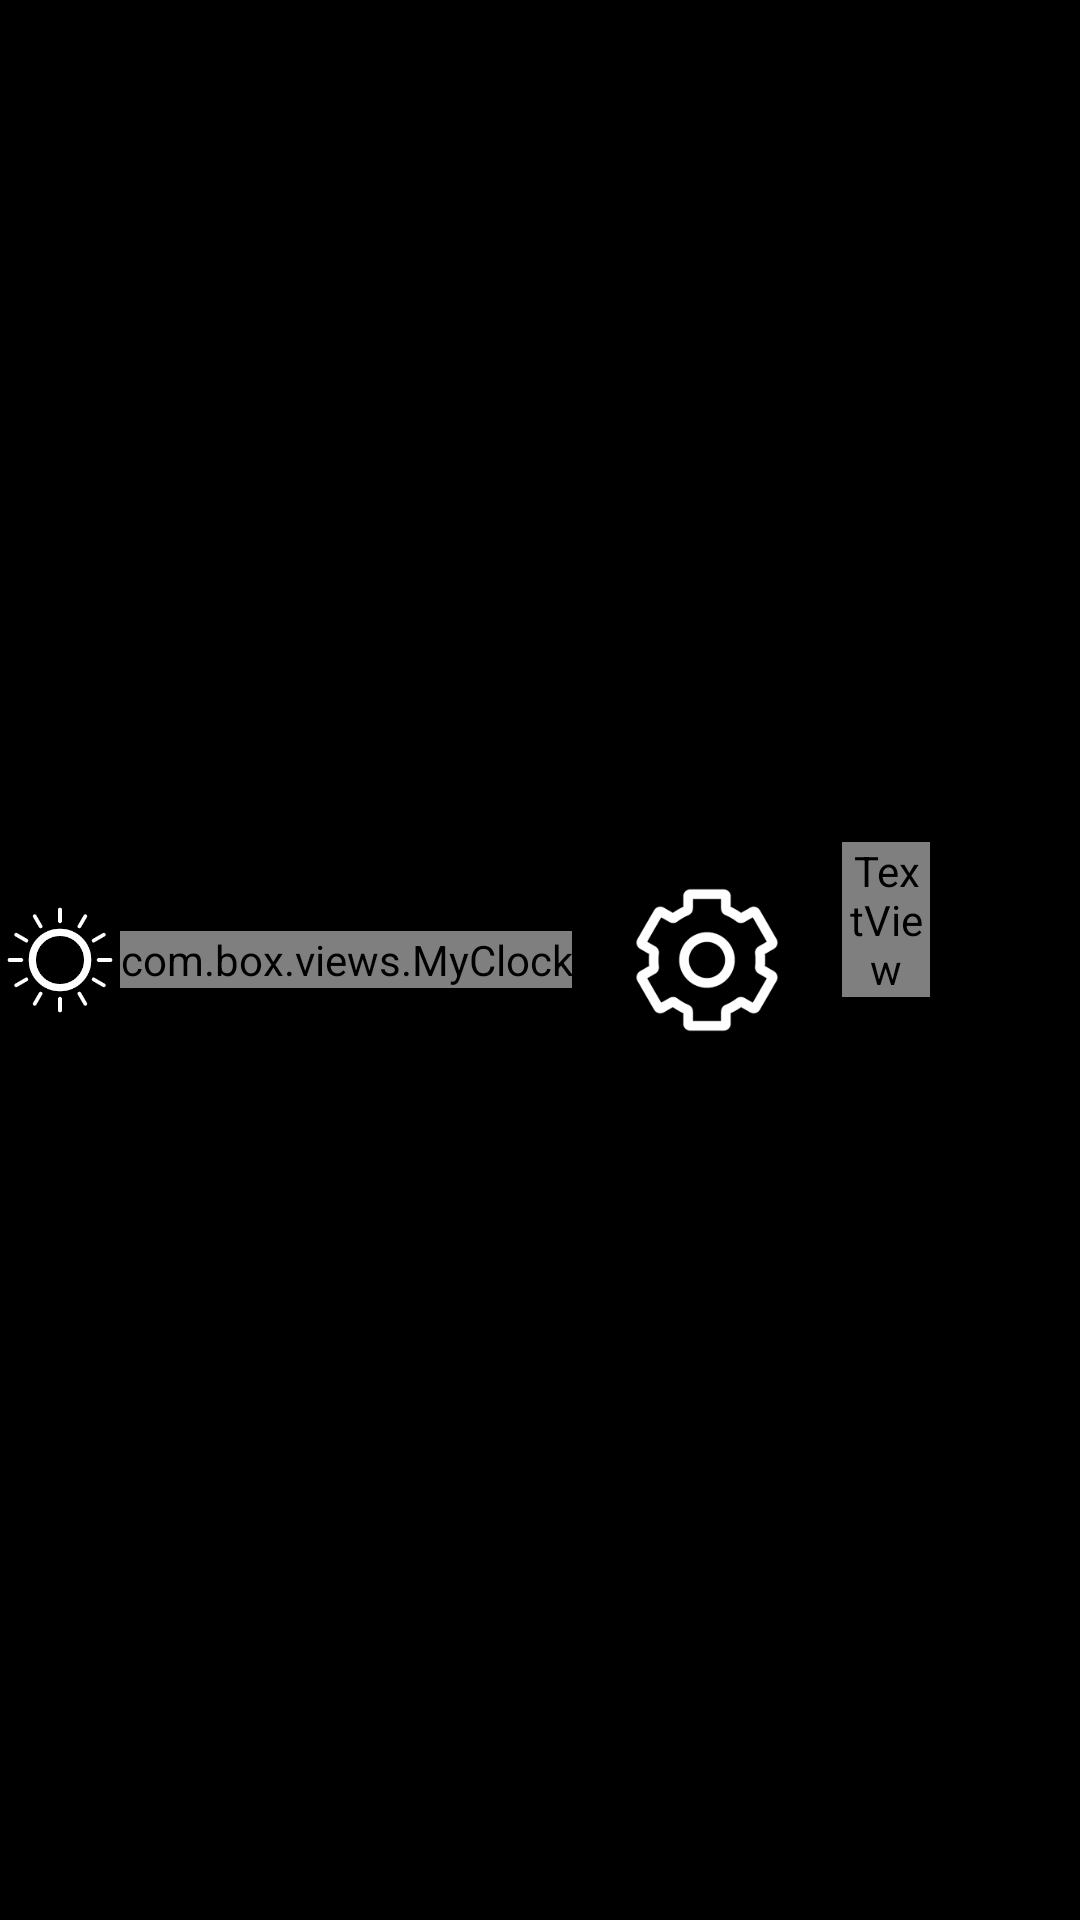

Icon click points for this 1080*1920 phone screenshot, format point (x, y):
setup: point (707, 960)
